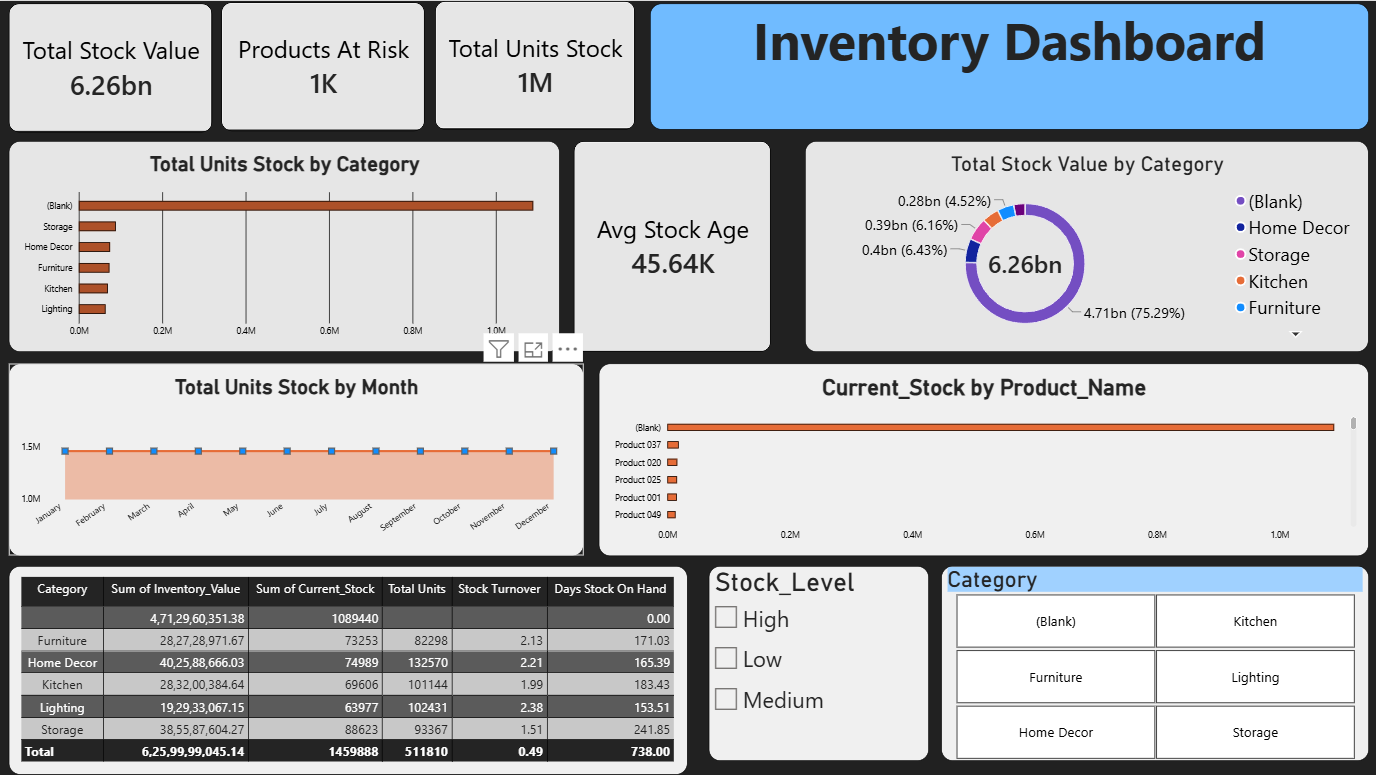

The dashboard page shown, as its layout file describes it:
{"tool":"powerbi","page":{"name":"Page 5","canvas":[1920,1080],"ordinal":4},"visuals":[{"type":"textbox","box":[907,3.5,1002.9,176.2],"z":0},{"type":"cardVisual","fields":{"Data":["_Measures.Total Stock Value"]},"box":[12.2,3.5,284.3,179.7],"z":1},{"type":"cardVisual","fields":{"Data":["_Measures.Total Units Stock"]},"box":[607,0,279.1,179.7],"z":2},{"type":"cardVisual","fields":{"Data":["_Measures.Avg Stock Age"]},"box":[800.6,195.3,310.5,294.8],"z":3},{"type":"cardVisual","fields":{"Data":["_Measures.Products At Risk"]},"box":[308.7,1.7,284.3,179.7],"z":4},{"type":"barChart","fields":{"Category":["sku_master (2).Category"],"Y":["_Measures.Total Units Stock"]},"box":[12.2,195.3,769.2,294.8],"z":5},{"type":"donutChart","fields":{"Category":["sku_master (2).Category"],"Y":["_Measures.Total Stock Value"]},"box":[1123.3,195.3,786.6,294.8],"z":6},{"type":"barChart","title":" Current_Stock by Product_Name","fields":{"Category":["sku_master (2).Product_Name"],"Y":["Sum(inventory_snapshots.Current_Stock)"]},"box":[835.5,505.8,1074.4,268.6],"z":7},{"type":"tableEx","fields":{"Values":["sku_master (2).Category","Sum(inventory_snapshots.Inventory_Value)","Sum(inventory_snapshots.Current_Stock)","_Measures.Total Units","_Measures.Stock Turnover","_Measures.Days Stock On Hand"]},"box":[12.2,788.4,947.1,291.3],"z":8},{"type":"lineChart","fields":{"Category":["calendar (2).date.Variation.Date Hierarchy.Month"],"Y":["_Measures.Total Units Stock"]},"box":[12.2,505.8,802.3,268.6],"z":9},{"type":"slicer","fields":{"Values":["sku_master (2).Category"]},"box":[1313.4,788.4,596.5,272.1],"z":10},{"type":"slicer","fields":{"Values":["inventory_snapshots.Stock_Level"]},"box":[989,788.4,307,272.1],"z":11}]}

Visuals, with their boxes in screenshot pixels (x1, y1, x2, y2), scaled from the page's 1920x1080 canvas onto the 1376x775 screenshot:
textbox: {"left": 650, "top": 3, "right": 1369, "bottom": 129}
cardVisual - _Measures.Total Stock Value: {"left": 9, "top": 3, "right": 212, "bottom": 131}
cardVisual - _Measures.Total Units Stock: {"left": 435, "top": 0, "right": 635, "bottom": 129}
cardVisual - _Measures.Avg Stock Age: {"left": 574, "top": 140, "right": 796, "bottom": 352}
cardVisual - _Measures.Products At Risk: {"left": 221, "top": 1, "right": 425, "bottom": 130}
barChart - sku_master (2).Category x _Measures.Total Units Stock: {"left": 9, "top": 140, "right": 560, "bottom": 352}
donutChart - sku_master (2).Category x _Measures.Total Stock Value: {"left": 805, "top": 140, "right": 1369, "bottom": 352}
" Current_Stock by Product_Name" barChart: {"left": 599, "top": 363, "right": 1369, "bottom": 556}
tableEx - sku_master (2).Category x Sum(inventory_snapshots.Inventory_Value): {"left": 9, "top": 566, "right": 687, "bottom": 774}
lineChart - calendar (2).date.Variation.Date Hierarchy.Month x _Measures.Total Units Stock: {"left": 9, "top": 363, "right": 584, "bottom": 556}
slicer - sku_master (2).Category: {"left": 941, "top": 566, "right": 1369, "bottom": 761}
slicer - inventory_snapshots.Stock_Level: {"left": 709, "top": 566, "right": 929, "bottom": 761}
